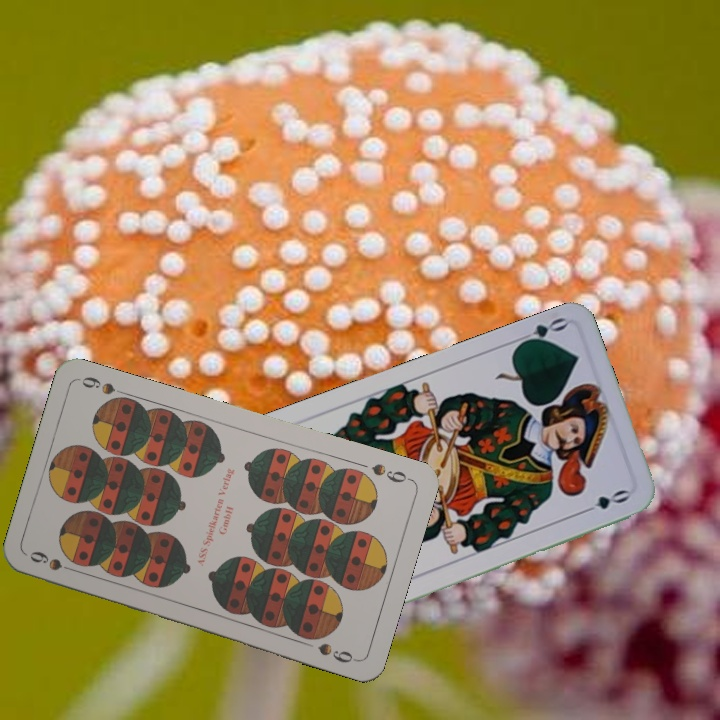GO: (511, 313, 569, 349)
S9: (25, 547, 83, 576), (367, 459, 414, 486)
